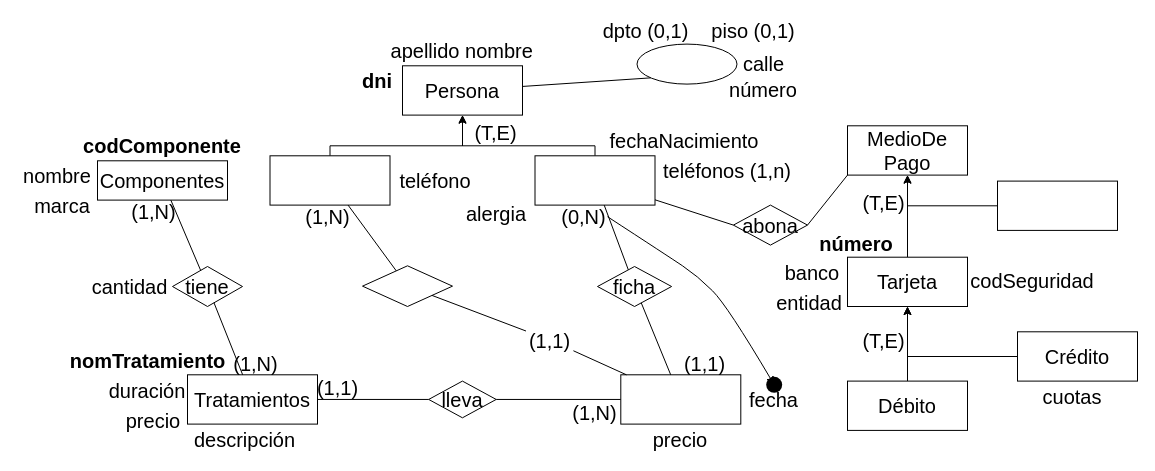
The diagram is 1155 pixels wide and 471 high, and some of its shapes have lost their labels. Here are the shapes that lost their labels. From the top down, the box of each, then its label:
(636, 43, 737, 84): dirección
(269, 155, 390, 205): Peluqueros
(534, 155, 655, 205): Clientes
(996, 180, 1118, 230): Efectivo
(362, 265, 452, 306): atendió
(620, 374, 741, 424): Atenciones
